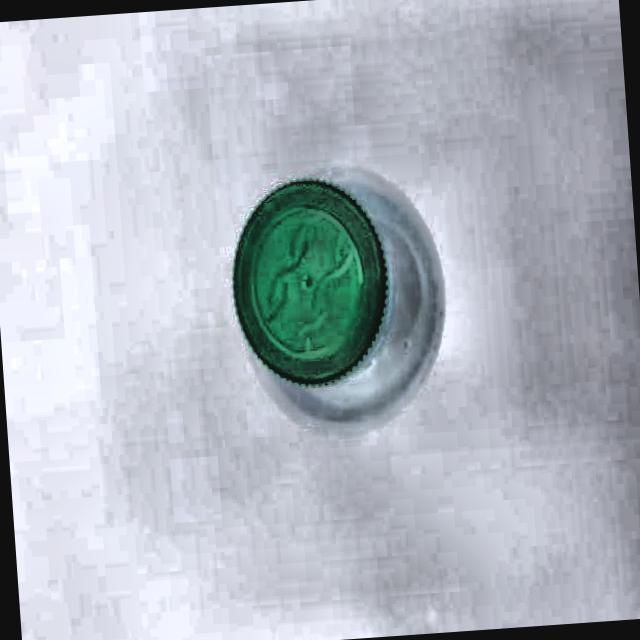plastic bottle: (233, 170, 443, 420)
